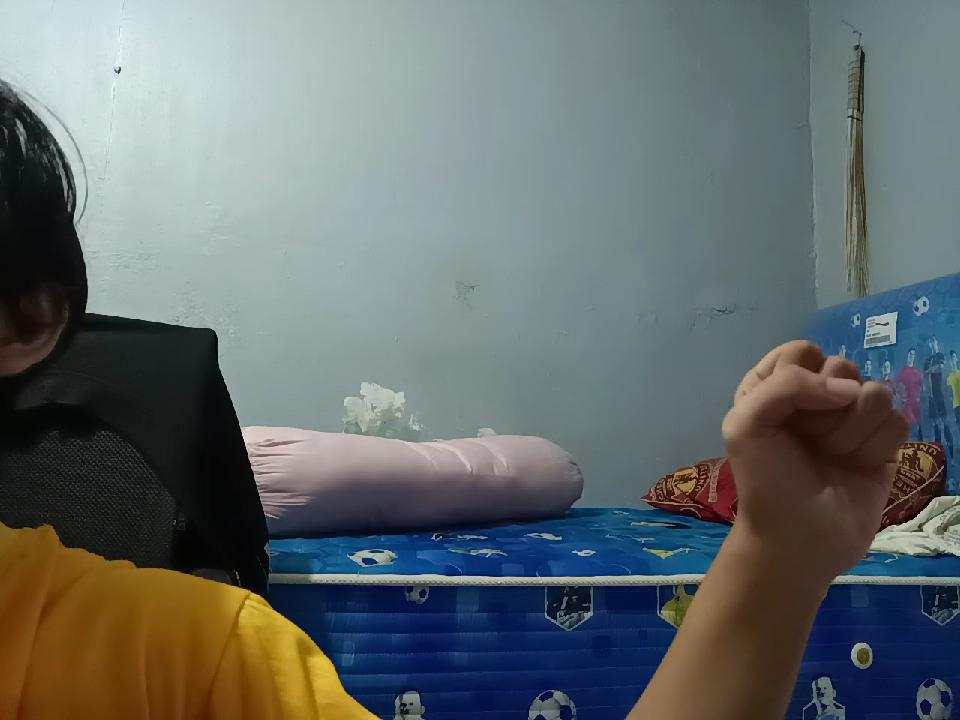rock: (706, 322, 910, 590)
